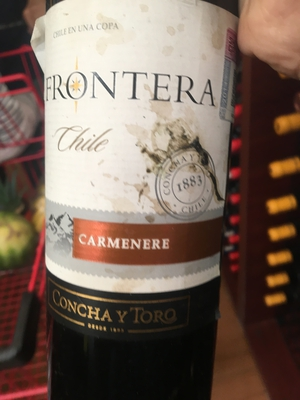frontera carmenere: (35, 6, 233, 360)
